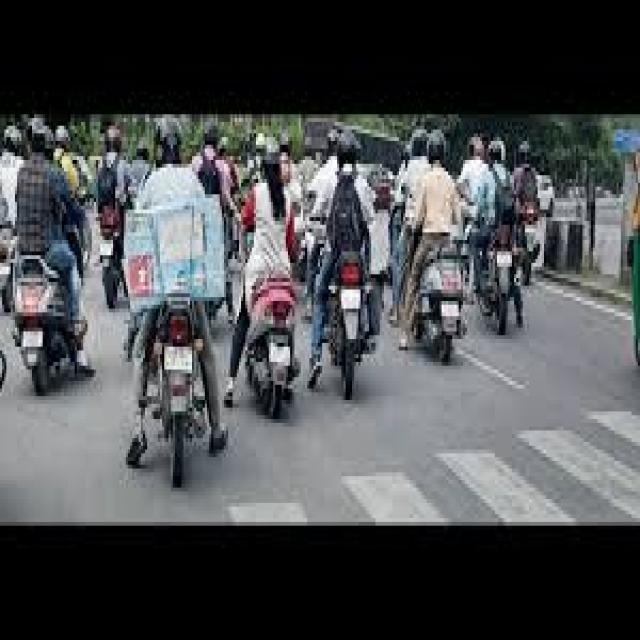With_helmet: (151, 120, 188, 180), (332, 137, 378, 178), (22, 112, 57, 164), (405, 119, 430, 166), (98, 126, 131, 161), (514, 132, 539, 174), (260, 138, 285, 178), (488, 132, 506, 176), (202, 121, 222, 159), (4, 116, 18, 167), (56, 122, 73, 158), (468, 130, 484, 164)
